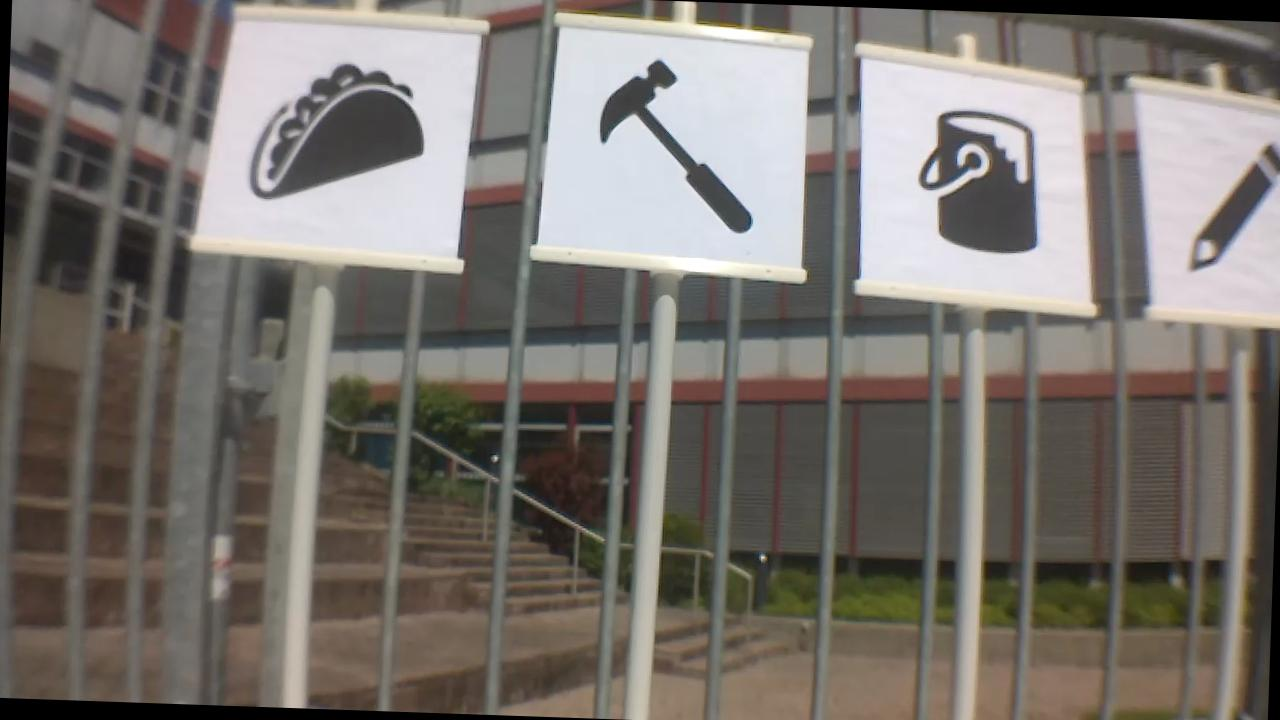bucket: (909, 96, 1051, 260)
hammer: (589, 50, 762, 230)
pencil: (1184, 135, 1280, 274)
taco: (236, 57, 435, 210)
